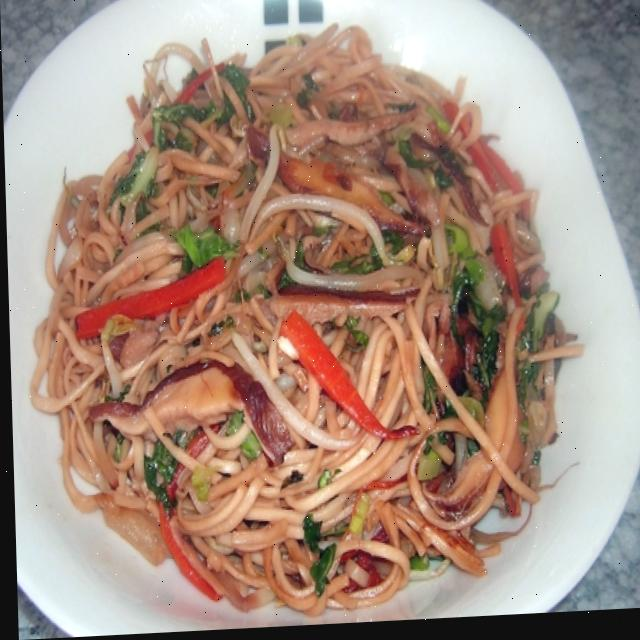面条主食: (0, 0, 602, 640)
